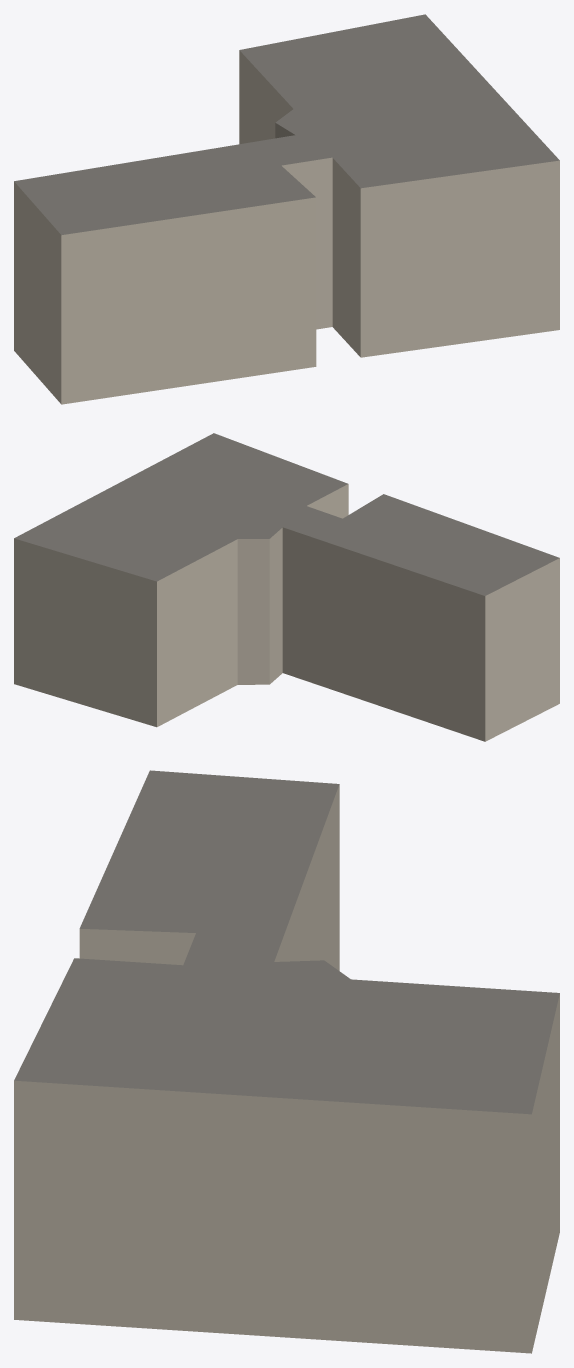
3 views of the same model, one above another, from view 1: azimuth 30°, elevation 25°; view 2: azimuth 150°, elevation 25°; view 3: azimuth 270°, elevation 25° (orthographic). The views are drawn at different scales.
Visible parts, largest first — view 1: HP-w1515071129; view 2: HP-w1515071129; view 3: HP-w1515071129.
Part boxes in pixels (x1,y1,x2,y2): HP-w1515071129: [14, 14, 559, 404]; HP-w1515071129: [14, 433, 559, 741]; HP-w1515071129: [14, 770, 559, 1353].
Bounding box in the file's own units: 55.51 × 18 × 37.24.
